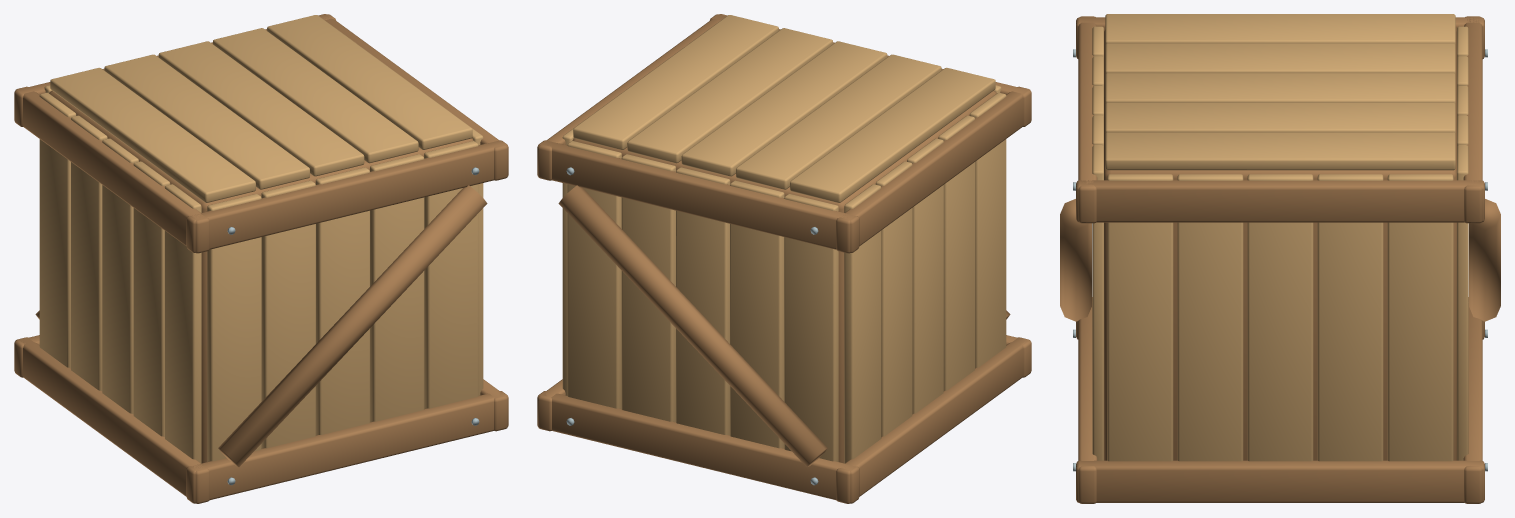
The model's file is crate.glb.
3 renders of one model, left to right at view 1: azimuth 30°, elevation 25°; view 2: azimuth 150°, elevation 25°; view 3: azimuth 270°, elevation 25°, orthographic. The views are drawn at different scales.
Visible parts, largest first — view 1: crate_WoodLight, crate_Wood; view 2: crate_WoodLight, crate_Wood; view 3: crate_WoodLight, crate_Wood.
Part boxes in pixels (x1,y1,x2,y2): crate_WoodLight: (39,15,483,463); crate_Wood: (14,14,508,503); crate_WoodLight: (562,15,1006,463); crate_Wood: (537,14,1031,503); crate_WoodLight: (1092,14,1468,461); crate_Wood: (1060,16,1500,503).
Size of the model in its own units: 1.4 by 1.27 by 1.51.
